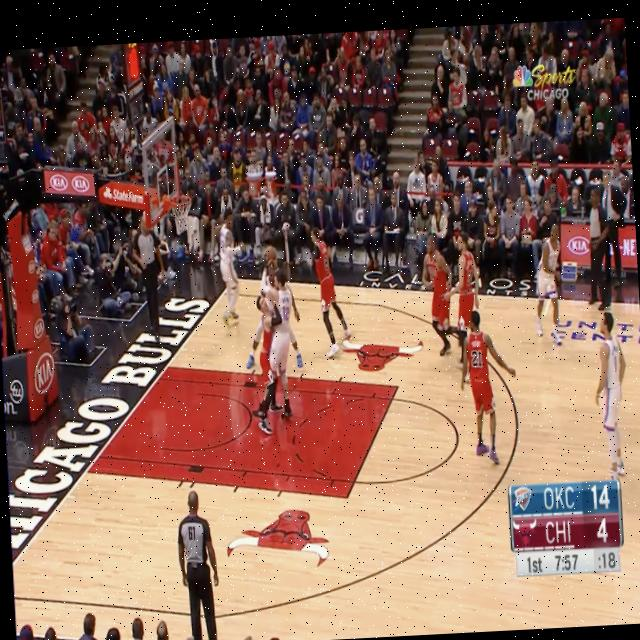foul: (233, 257, 304, 442)
no foul: (411, 234, 486, 384)
